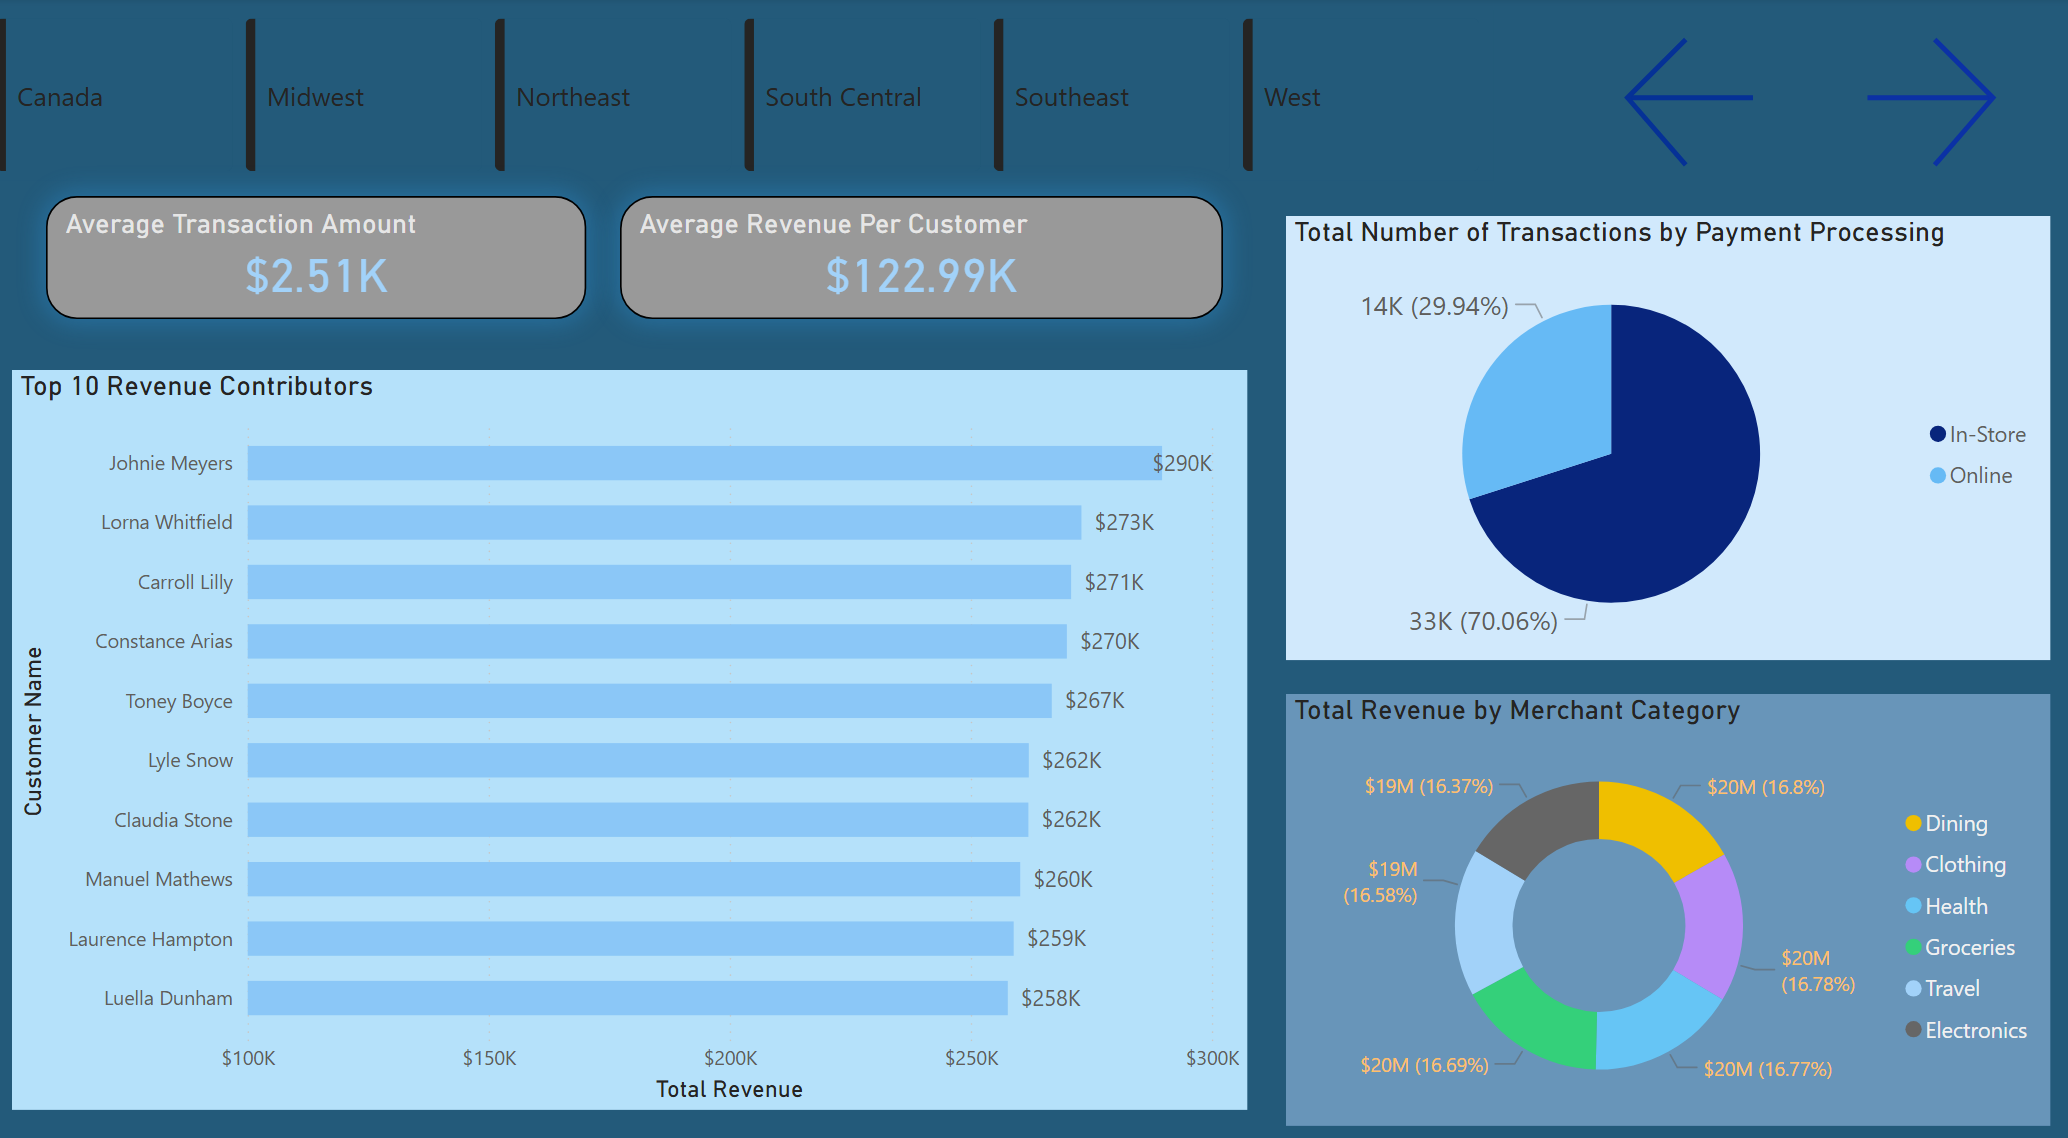

What the dashboard file says about the page in this screenshot:
{"tool":"powerbi","page":{"name":"Customer Transactions","canvas":[1280,720],"ordinal":1},"visuals":[{"type":"clusteredBarChart","title":"Top 10 Revenue Contributors","fields":{"Category":["Customers.Customer Name"],"Y":["Transactions.Total Revenue"]},"box":[15.3,229.1,758.2,453.8],"z":0},{"type":"donutChart","fields":{"Y":["Transactions.Total Revenue"],"Category":["Transactions.Merchant Category"]},"box":[796.4,428.7,469.1,265.1],"z":1000},{"type":"pieChart","fields":{"Y":["Transactions.Total Transactions"],"Category":["Transactions.Payment Processing"]},"box":[796.4,135.3,469.1,272.7],"z":2000},{"type":"advancedSlicerVisual","fields":{"Values":["Regions.Region Name"]},"box":[0,8.7,924,104.7],"z":3000},{"type":"card","title":"Average Revenue Per Customer","fields":{"Values":["Banking Measures.Average Revenue Per Customer"]},"box":[387.3,123.3,369.8,75.3],"z":4000},{"type":"card","title":"Average Transaction  Amount","fields":{"Values":["Transactions.Average Transaction Amount"]},"box":[36,123.3,331.6,75.3],"z":5000},{"type":"actionButton","box":[1144.4,17.5,121.1,96],"z":6000},{"type":"actionButton","box":[996,17.5,126.5,96],"z":7000}]}

Visuals, with their boxes in screenshot pixels (x1, y1, x2, y2), scaled from the page's 1280x720 canvas onto the 2068x1138 screenshot:
"Top 10 Revenue Contributors" clusteredBarChart: x1=25 y1=362 x2=1250 y2=1079
donutChart - Transactions.Total Revenue x Transactions.Merchant Category: x1=1287 y1=678 x2=2045 y2=1097
pieChart - Transactions.Total Transactions x Transactions.Payment Processing: x1=1287 y1=214 x2=2045 y2=645
advancedSlicerVisual - Regions.Region Name: x1=0 y1=14 x2=1493 y2=179
"Average Revenue Per Customer" card: x1=626 y1=195 x2=1223 y2=314
"Average Transaction  Amount" card: x1=58 y1=195 x2=594 y2=314
actionButton: x1=1849 y1=28 x2=2045 y2=179
actionButton: x1=1609 y1=28 x2=1814 y2=179
